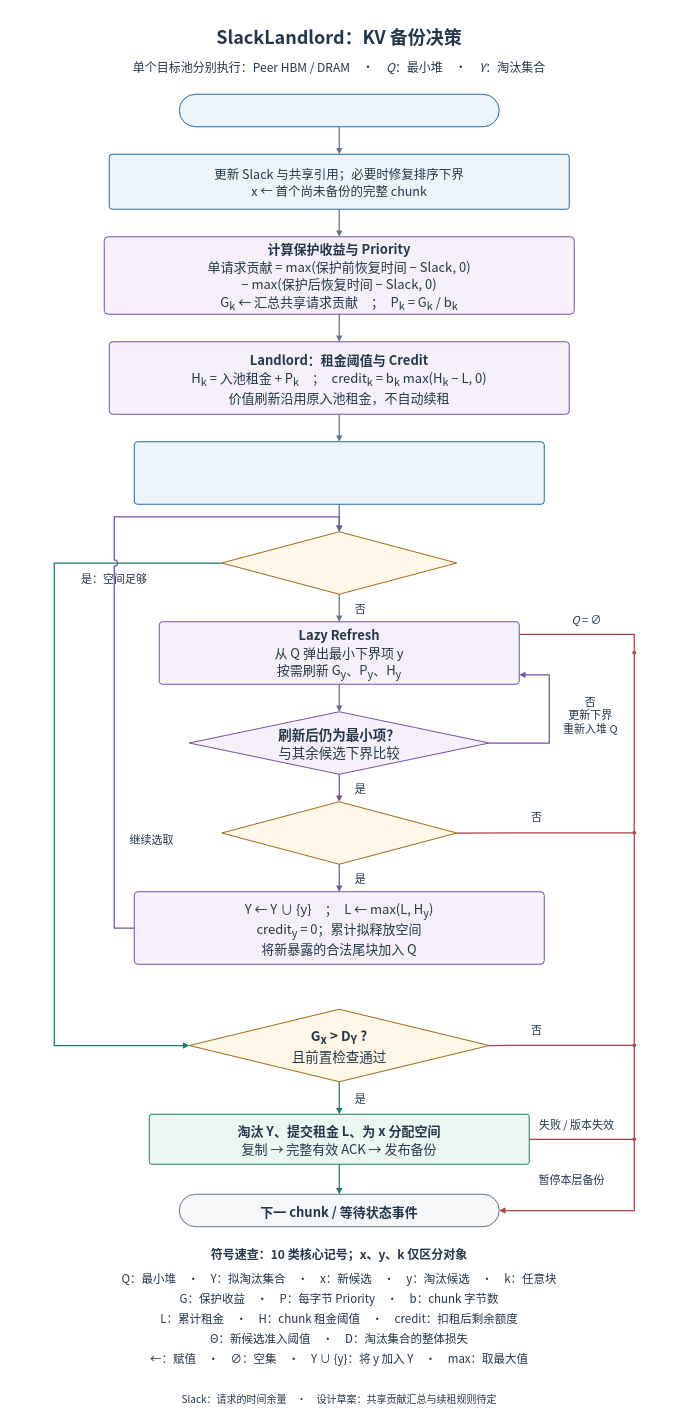
This 678x1423 diagram has some shape labels left out. The shapes that lost their labels are listed below. From the top down, each one's centre as x and y in pixels, then its label:
point 339,110: 请求 / 新 chunk / 状态事件
point 339,472: 创建临时堆与租金状态，仅用于预演 Θ x ← L + P x ； Y ← ∅ 后续 Q、L 均指预演状态；拒绝时丢弃
point 339,562: 规划空间足够？
point 339,832: H y < Θ x ?
